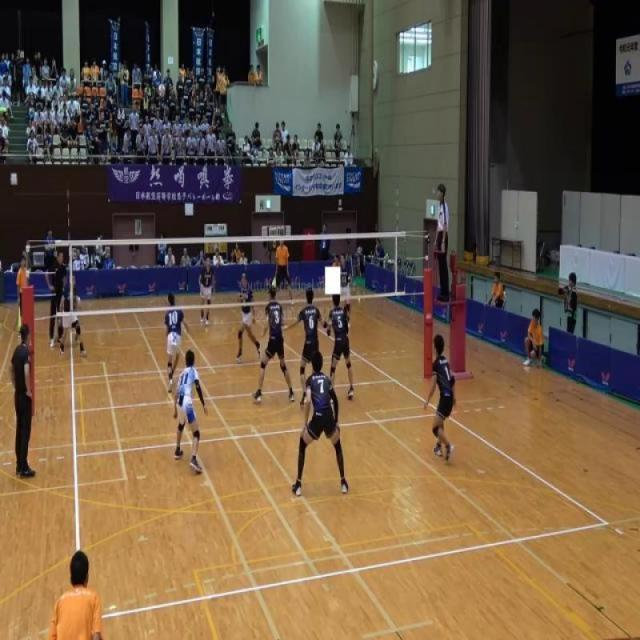volleyball: (158, 82, 166, 98)
